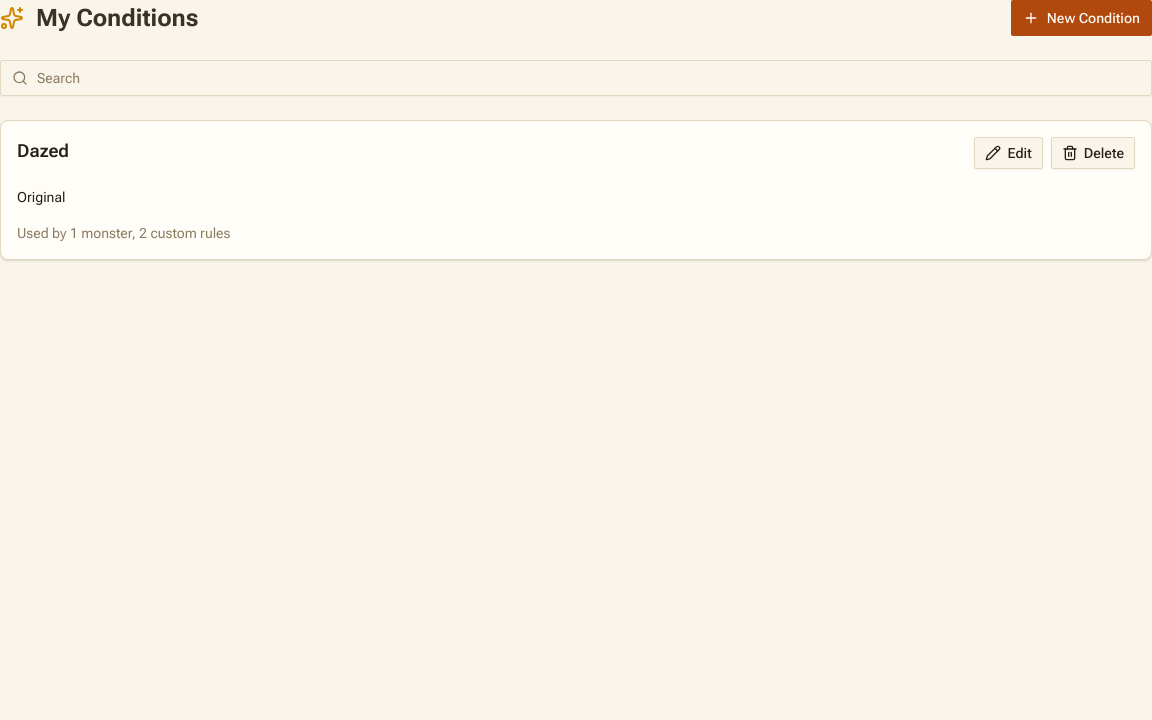
Test: ConditionsLibrary › edits only the description and discards cancelled edits
The width and height of the screenshot is (1152, 720).
Check: the field labelled "Name" is not shown
Click the button with aria-label "Edit Dazed".
click(1009, 153)  # box [974,137,1043,169]
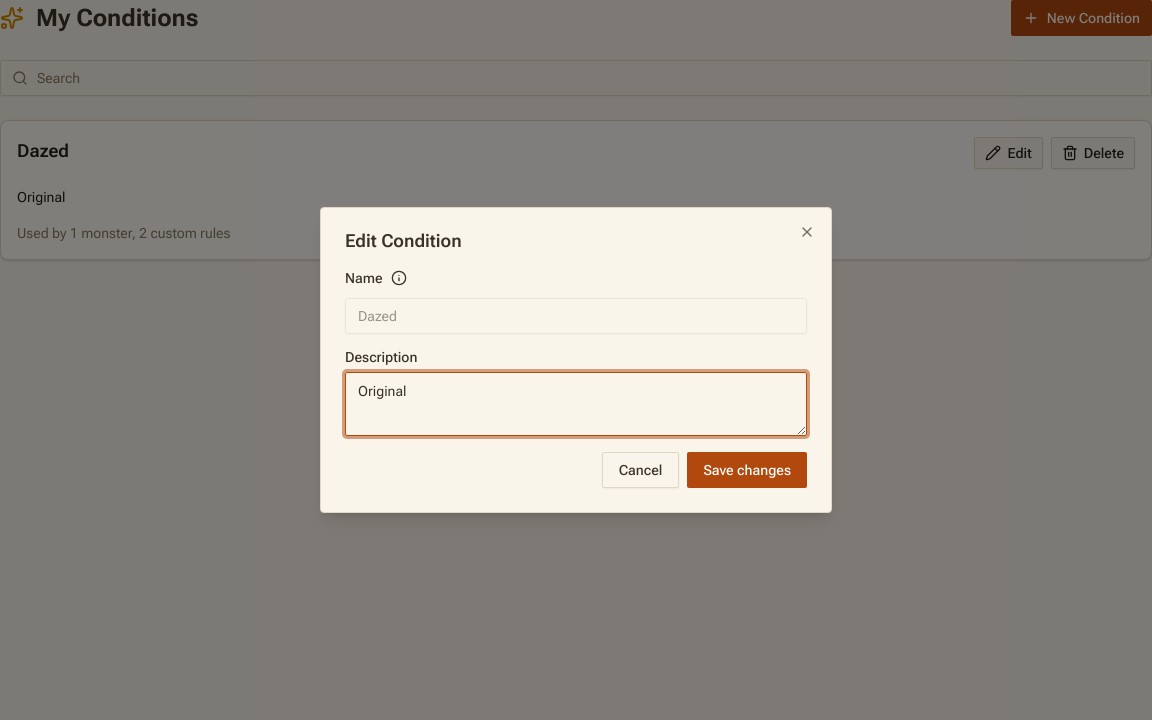
Check: the field labelled "Name" is disabled, box [345,298,807,334]
Check: the field labelled "Name" holds "Dazed", box [345,298,807,334]
Replace the text in the text box labelled "Description" with "Cancelled text" at (576, 404), box [345,372,807,436]
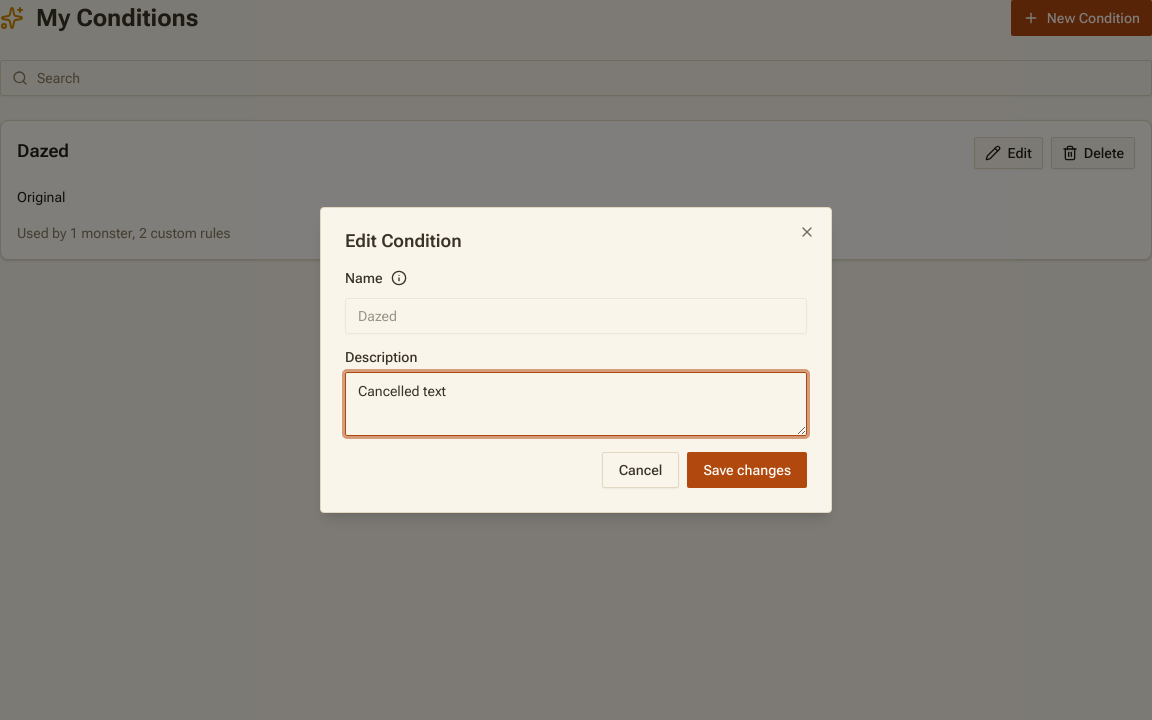
Click the button "Cancel".
click(641, 470)  # box [602,452,679,488]
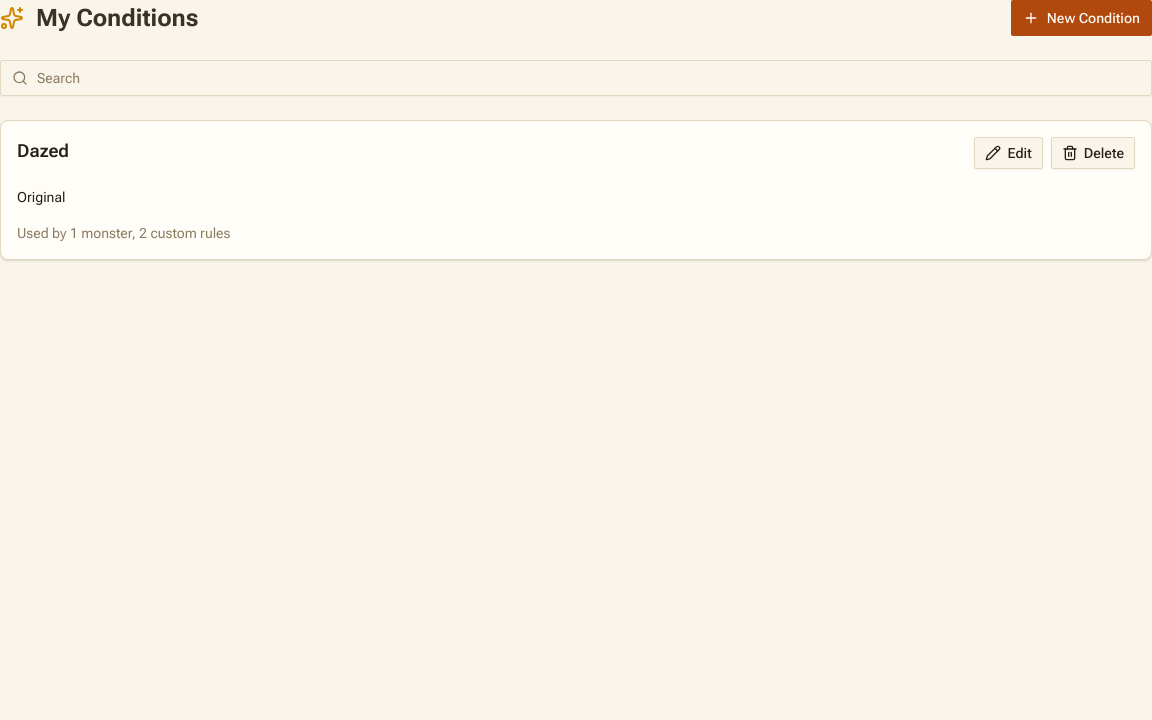
Click the button with aria-label "Edit Dazed".
click(1009, 153)  # box [974,137,1043,169]
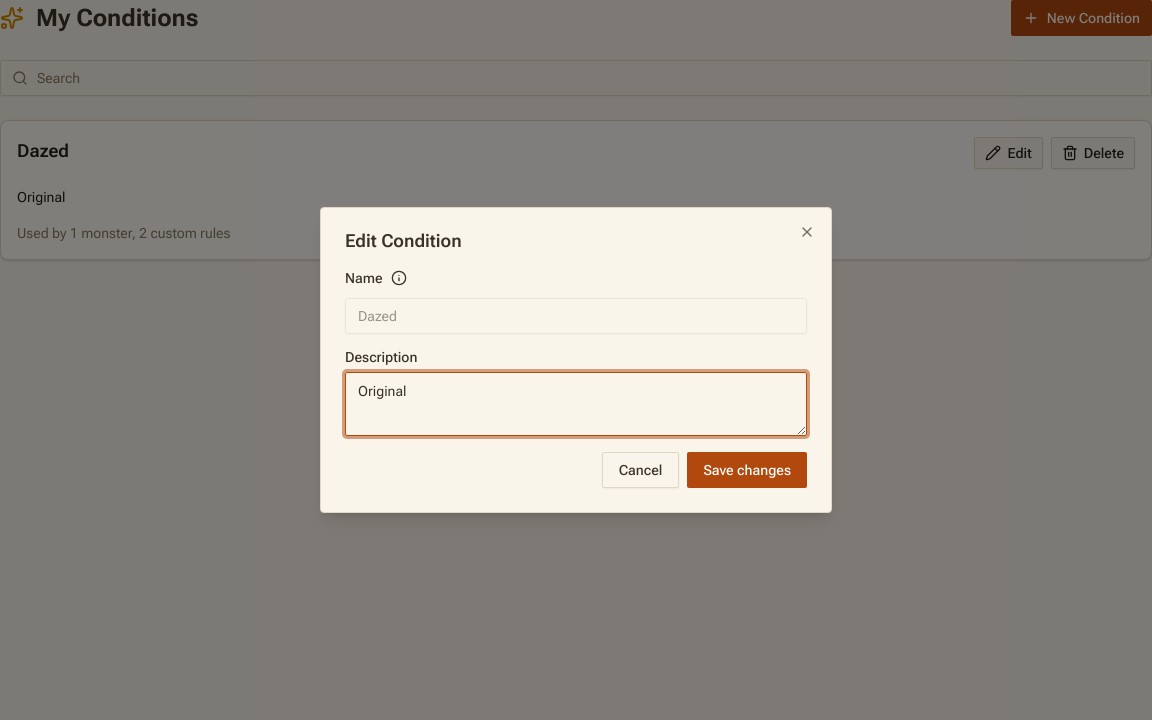
Check: the text box labelled "Description" holds "Original"
Replace the text in the text box labelled "Description" with "Updated text" at (576, 404), box [345,372,807,436]
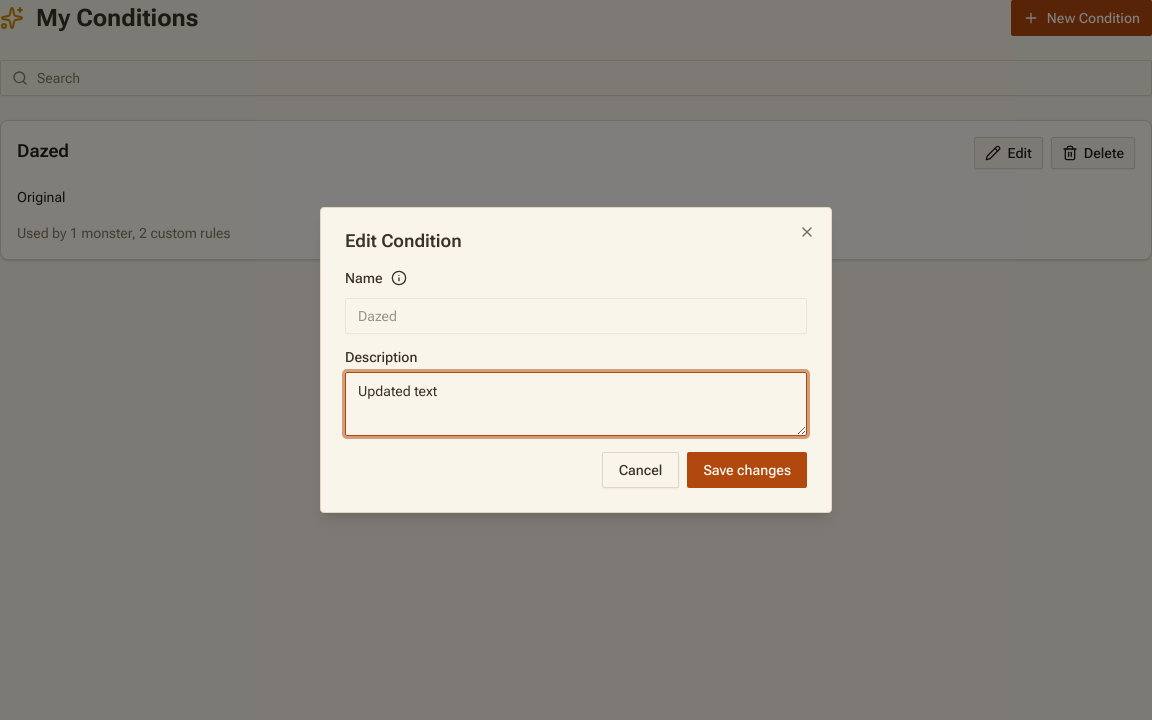
Click the button "Save changes".
click(747, 470)  # box [687,452,807,488]
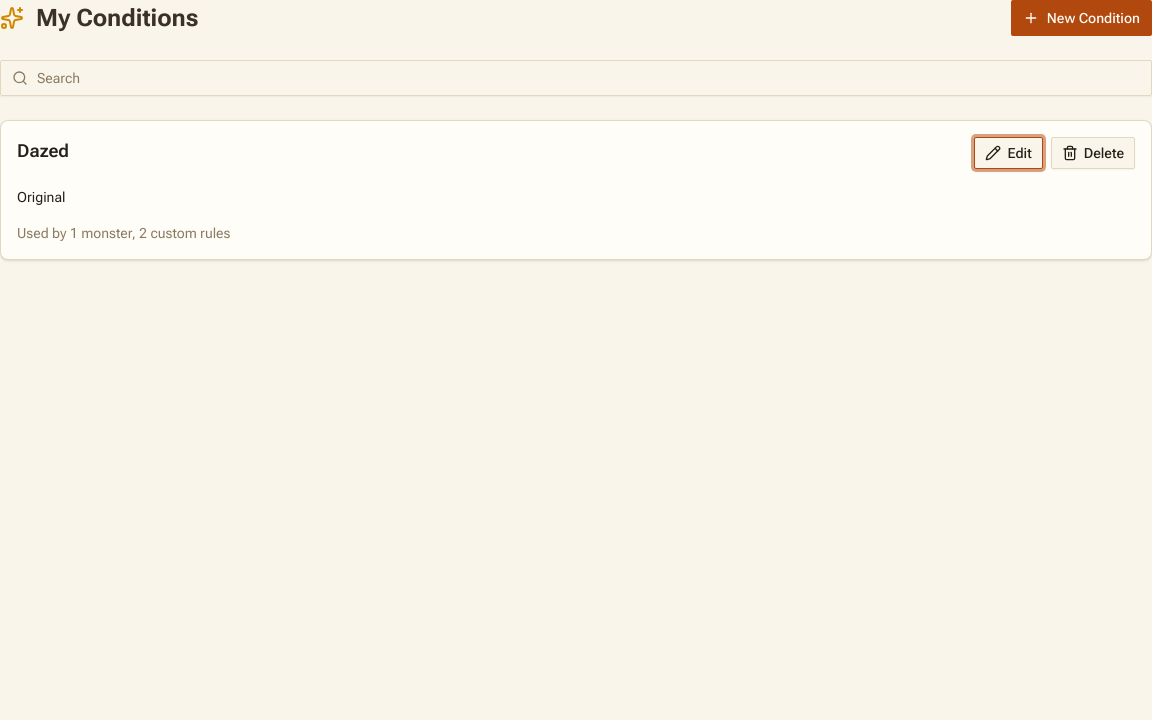
Check: the dialog is gone
